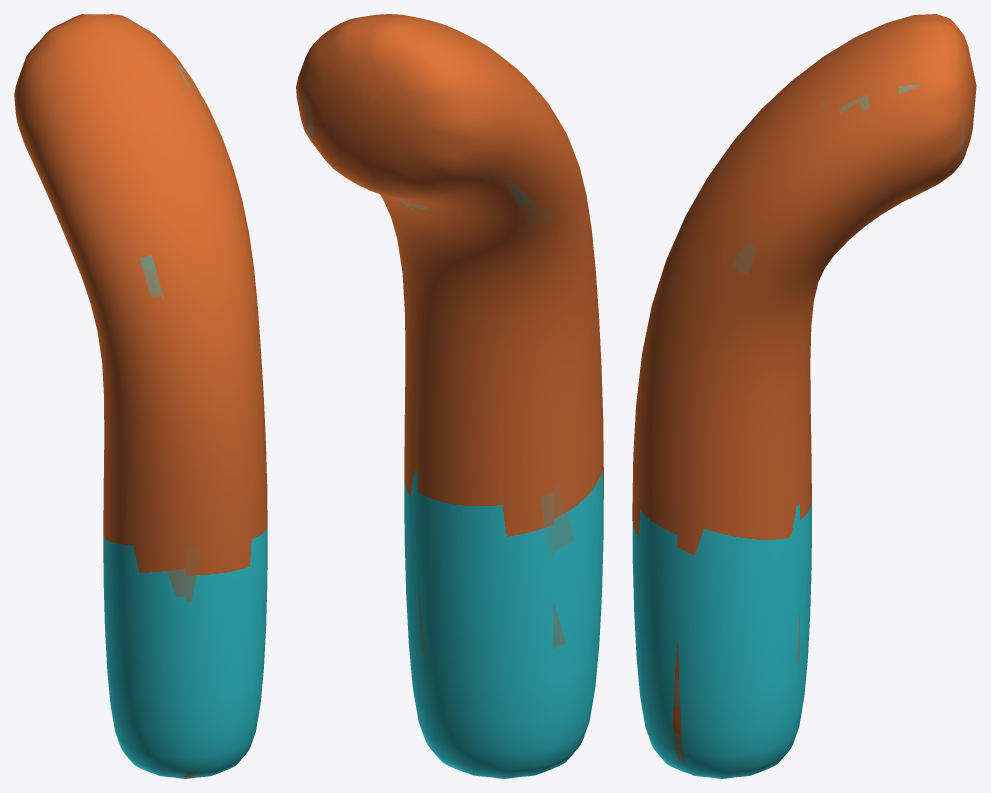
3 renders of one model, left to right at view 1: azimuth 30°, elevation 25°; view 2: azimuth 150°, elevation 25°; view 3: azimuth 270°, elevation 25°, orthographic. The views are drawn at different scales.
Visible parts, largest first — view 1: Cylinder.055; view 2: Cylinder.055; view 3: Cylinder.055.
Boxes of the visible parts, left/top/right/bottom form: Cylinder.055: left=14, top=14, right=267, bottom=778; Cylinder.055: left=296, top=14, right=603, bottom=778; Cylinder.055: left=632, top=14, right=976, bottom=778.
Bounding box in the file's own units: 0.1238 × 0.4762 × 0.2007.
1 material, 1 textured.
